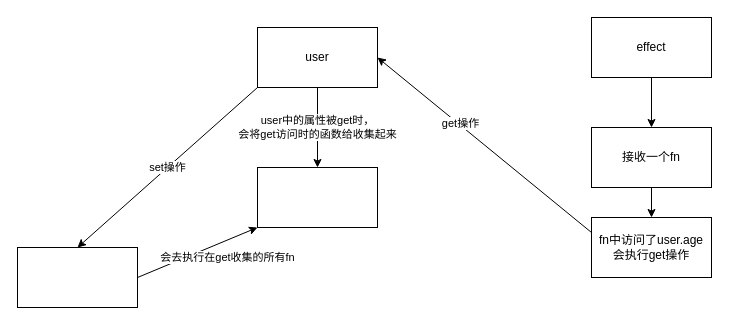
The diagram is 729 pixels wide and 325 high, and some of its shapes have lost their labels. The centre of each missing label's shape, as x and y in pixels:
"fns" belongs at pixel 317 197.
"user.age++" belongs at pixel 77 277.
